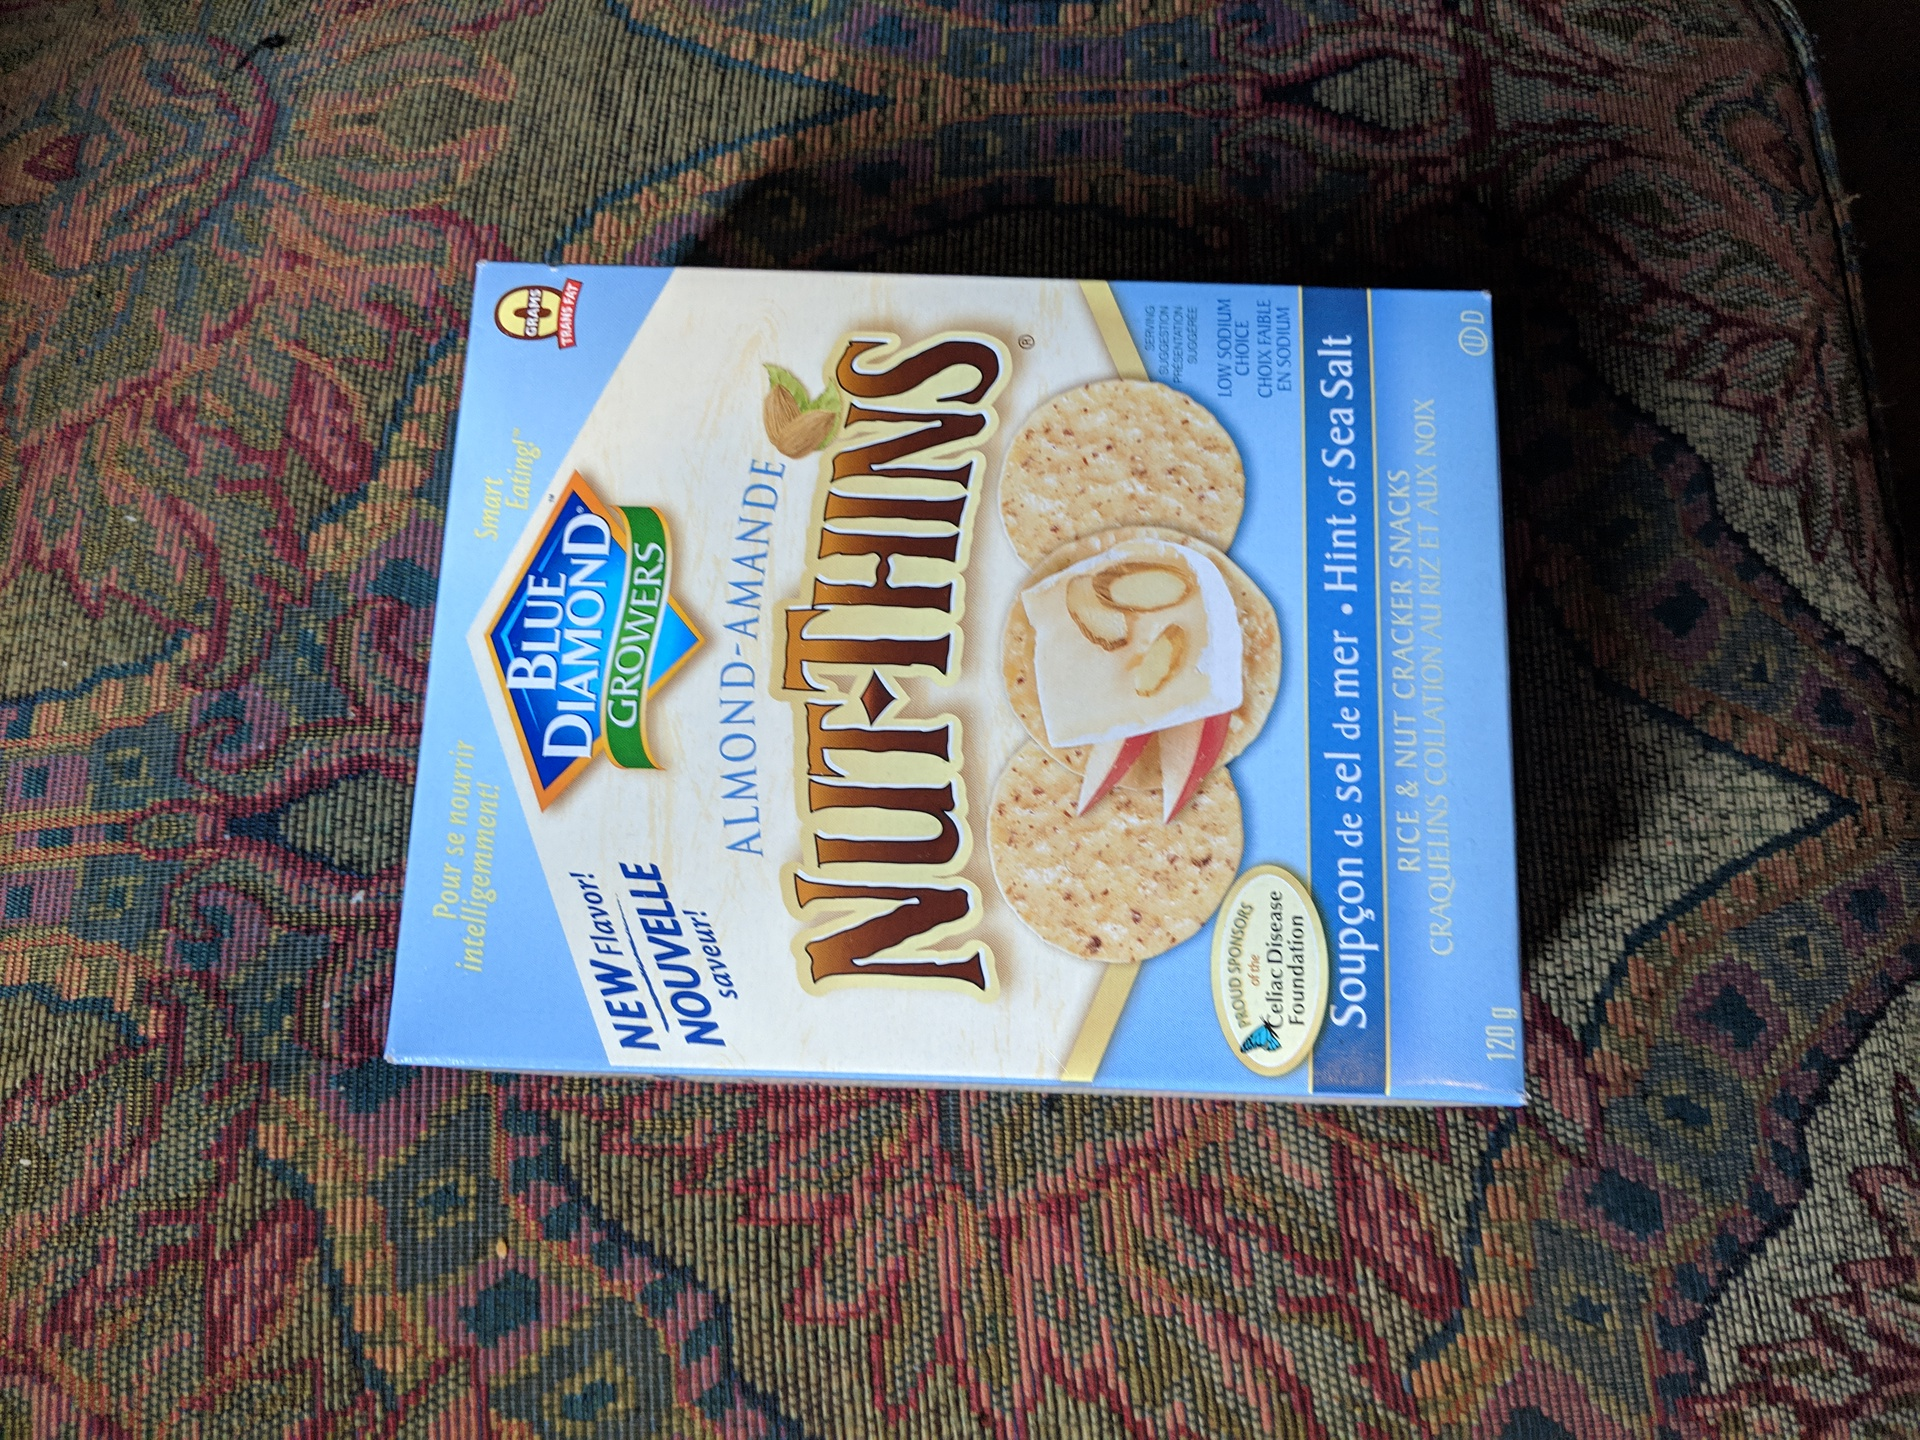blue_diamond_nut_thins_almond_seasalt: (416, 272, 1513, 1107)
